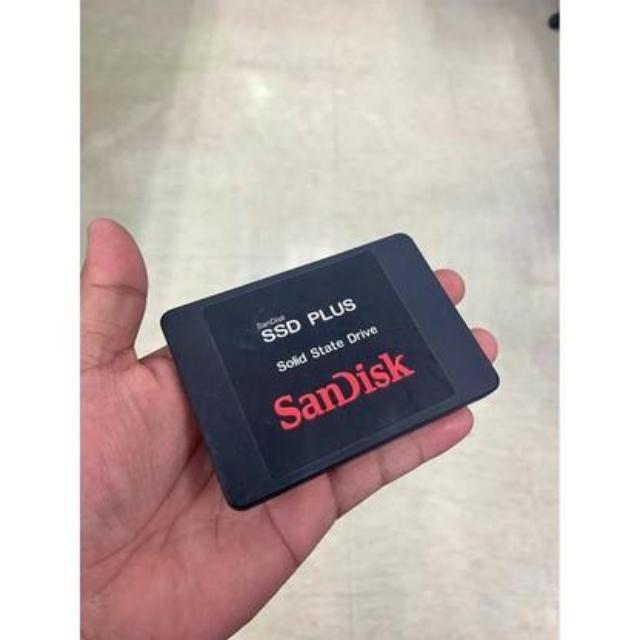DISK: (156, 228, 501, 510)
